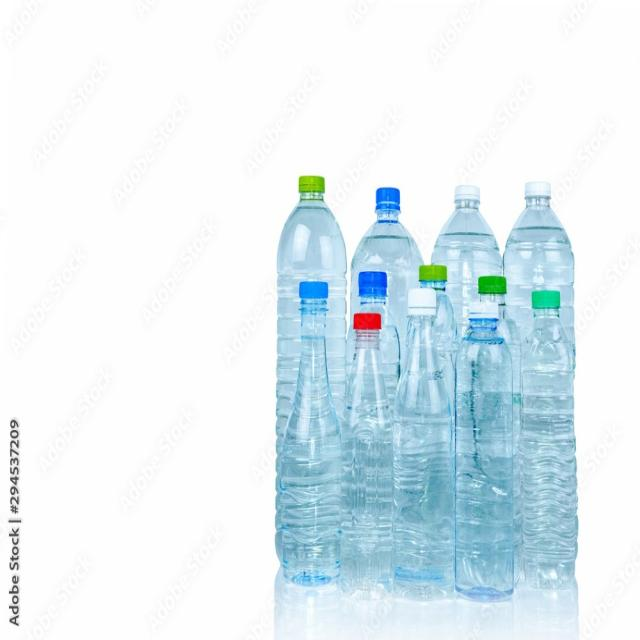bottle: (267, 151, 595, 614)
